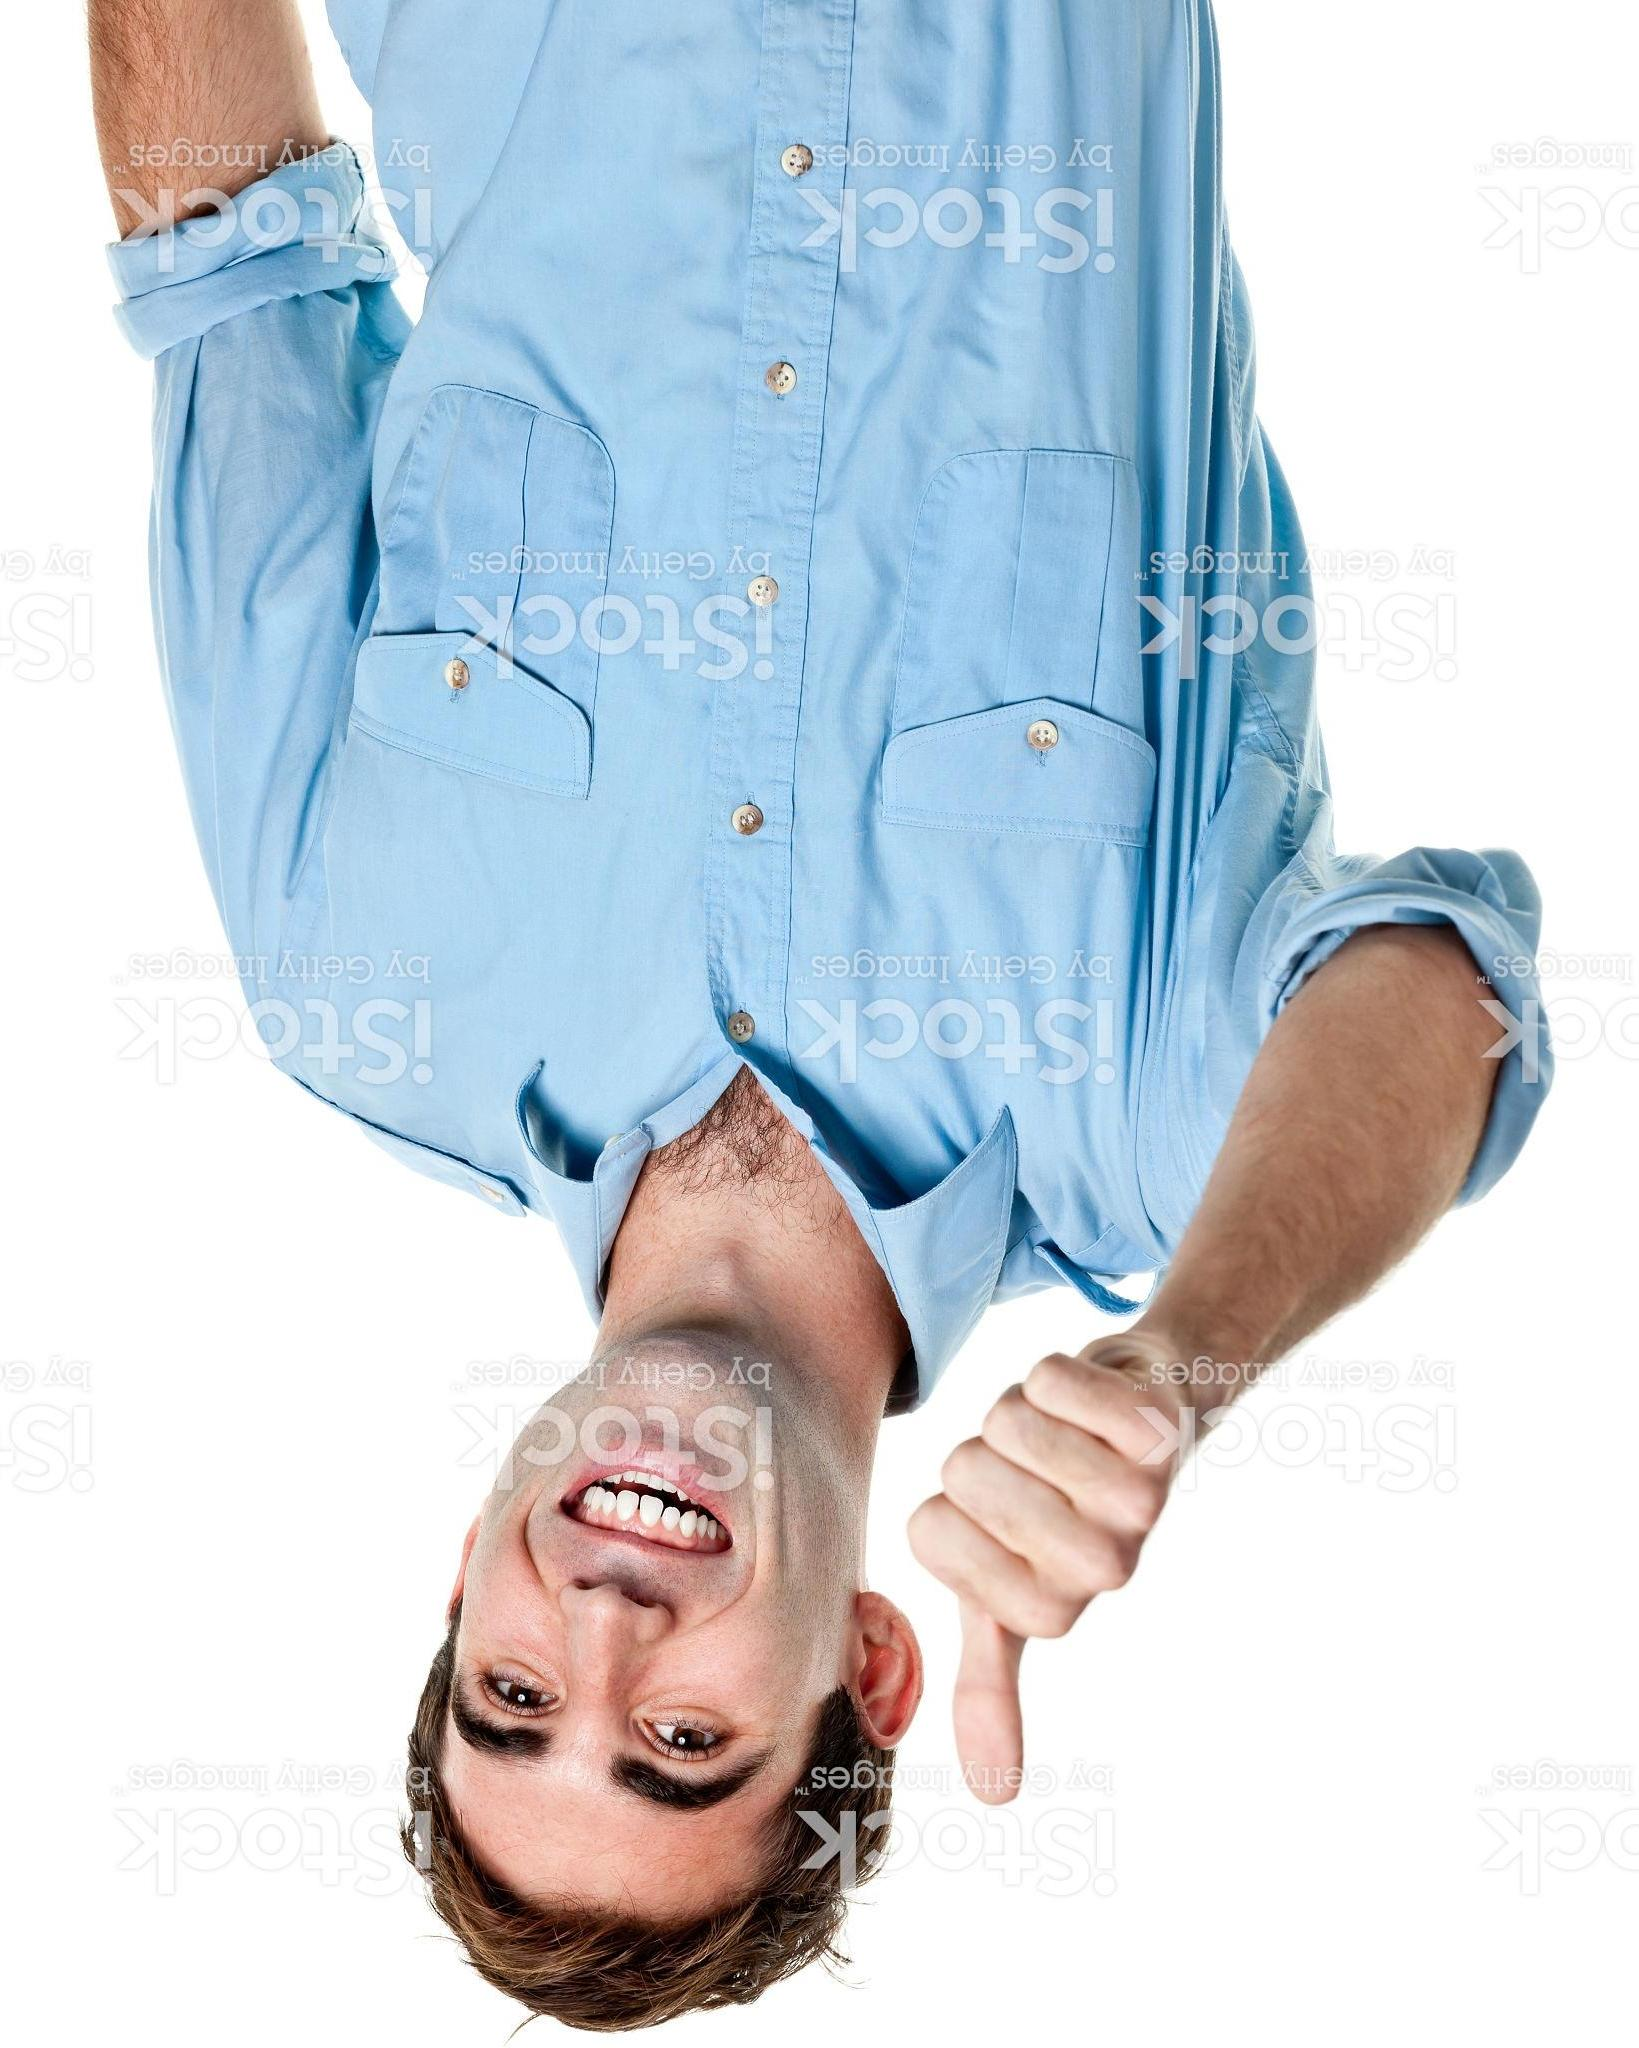thumbsdown: (900, 1344, 1182, 1807)
